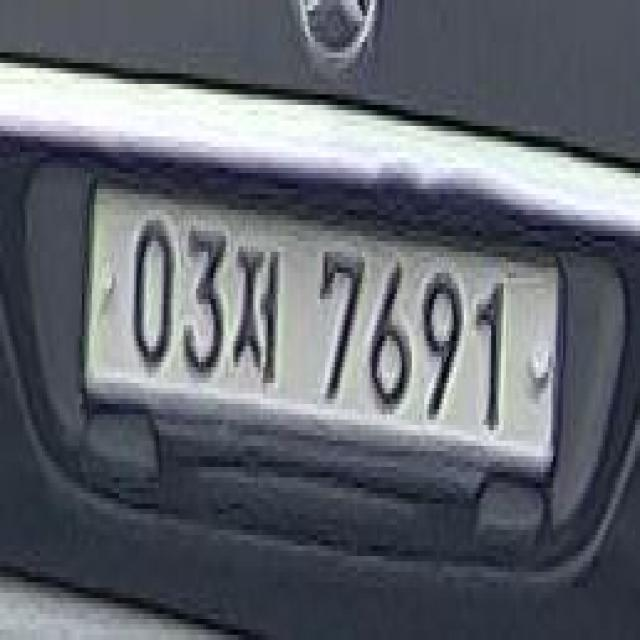illegal_plate: (86, 174, 564, 511)
